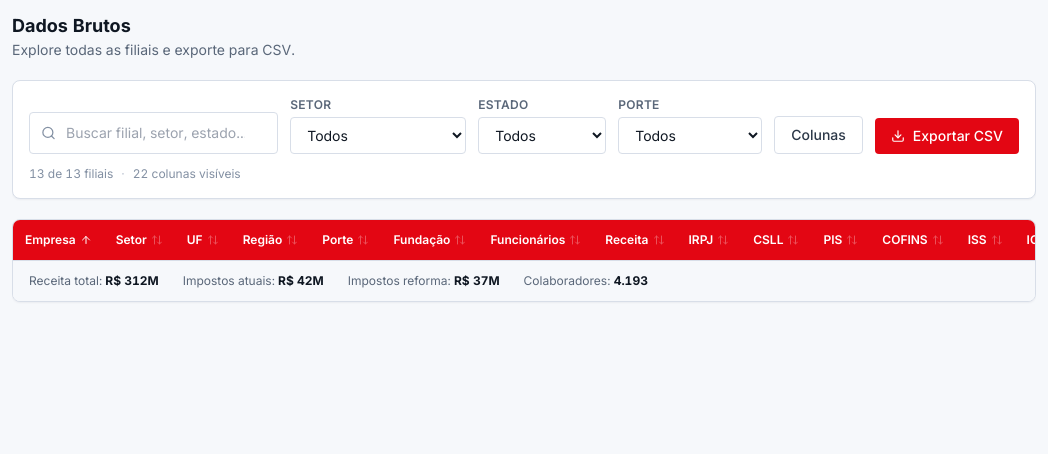
RawDataPage › filters by search term and shows count
Type "xyznotexist" into the field with placeholder "Buscar filial, setor, estado..." at [154, 133], box [29,112,278,154]
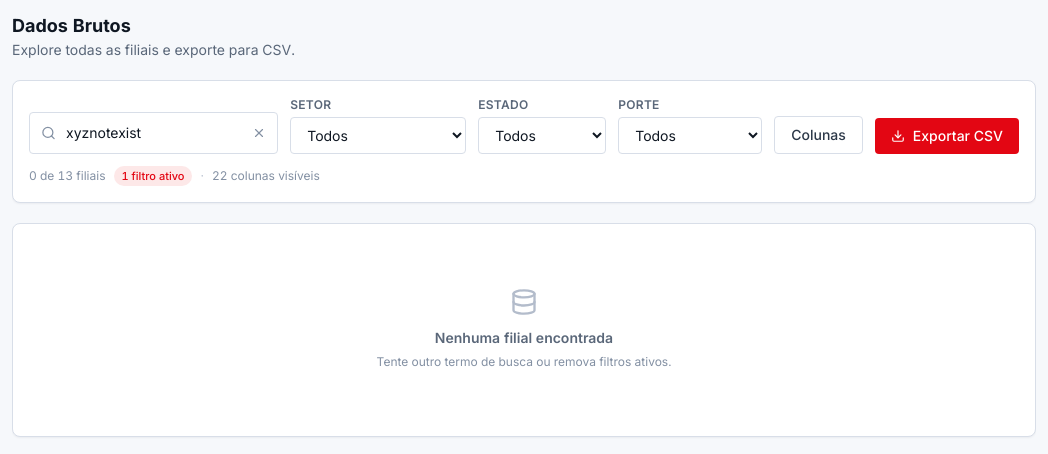
Result: the text "0 de 13 filiais" is shown at [29,168,106,184]
